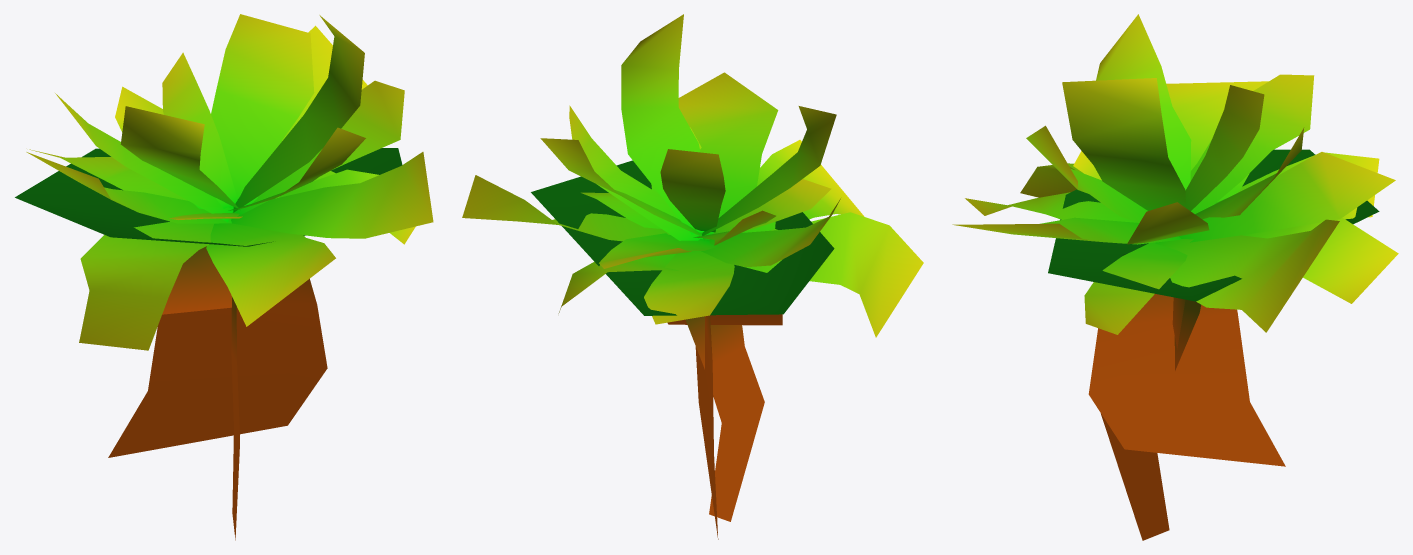
The model's file is Water Cabbage_LOD1_Var4_sjdlV.fbx.
3 renders of one model, left to right at view 1: azimuth 30°, elevation 25°; view 2: azimuth 150°, elevation 25°; view 3: azimuth 270°, elevation 25°, orthographic. The views are drawn at different scales.
Visible parts, largest first — view 1: merge1; view 2: merge1; view 3: merge1.
Boxes of the visible parts, box(x1,y1,x2,y2) form: merge1: box(15, 14, 433, 540); merge1: box(462, 14, 923, 539); merge1: box(952, 14, 1398, 540).
Bounding box in the file's own units: 18.47 × 22.95 × 18.29.
